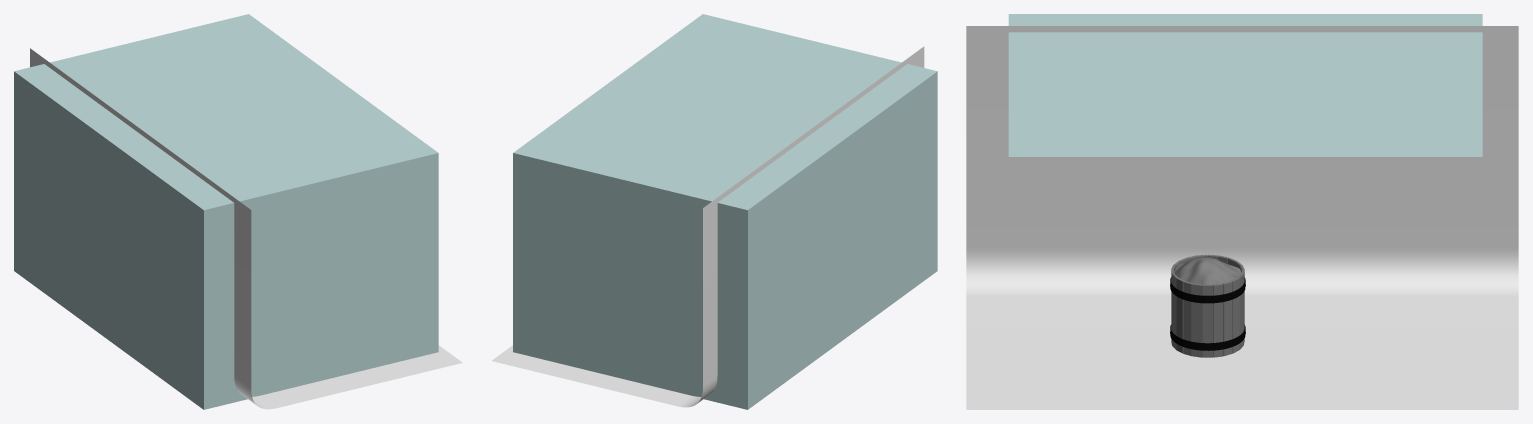
File: barrel.FBX
3 renders of one model, left to right at view 1: azimuth 30°, elevation 25°; view 2: azimuth 150°, elevation 25°; view 3: azimuth 270°, elevation 25°, orthographic. The views are drawn at different scales.
Visible parts, largest first — view 1: Object01; view 2: Object01; view 3: Object01, barrel.
Boxes of the visible parts, x1,y1,x2,y2 form: Object01: (14, 14, 462, 409); Object01: (492, 14, 937, 409); Object01: (966, 14, 1518, 409); barrel: (1170, 254, 1245, 357).
Size of the model in its own units: 178 by 282 by 144.
